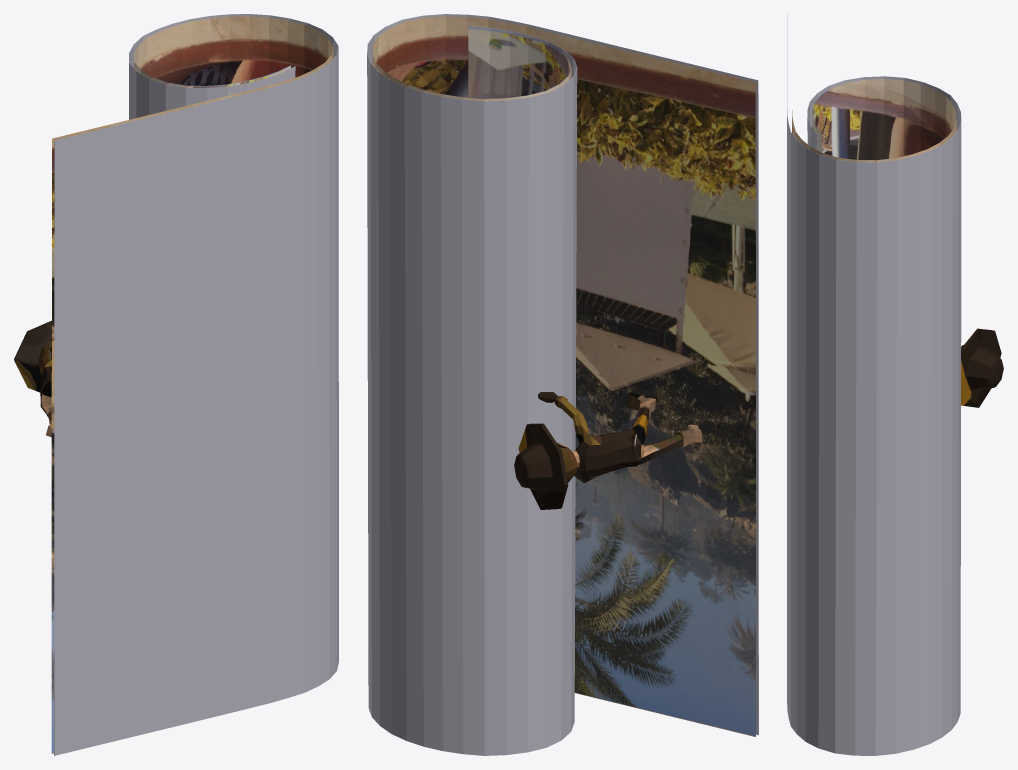
File: start_file2_000033.obj
3 renders of one model, left to right at view 1: azimuth 30°, elevation 25°; view 2: azimuth 150°, elevation 25°; view 3: azimuth 270°, elevation 25°, orthographic. The views are drawn at different scales.
Parts seen in each view (by area): view 1: Cube_Cube.001, Character_Cube; view 2: Cube_Cube.001, Character_Cube; view 3: Cube_Cube.001, Character_Cube.
Part boxes in pixels (<box>): Cube_Cube.001: <box>51,14,338,755</box>; Character_Cube: <box>14,320,51,437</box>; Cube_Cube.001: <box>367,14,758,755</box>; Character_Cube: <box>514,391,702,509</box>; Cube_Cube.001: <box>787,14,961,755</box>; Character_Cube: <box>961,328,1003,407</box>.
Size of the model in its own units: 0.8171 by 1.52 by 0.5044.
Materials: 2 (2 with a texture image).
